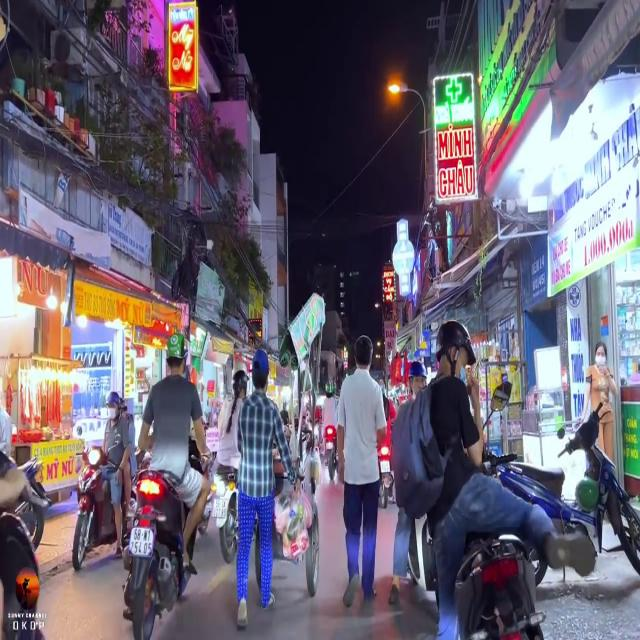bien_trang: (129, 527, 153, 556), (213, 500, 227, 517)
